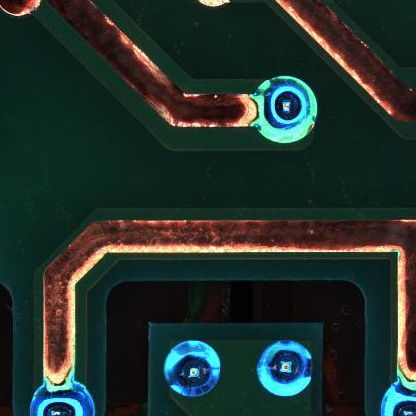spot: (252, 73, 317, 145), (162, 338, 222, 399), (256, 341, 314, 395)
